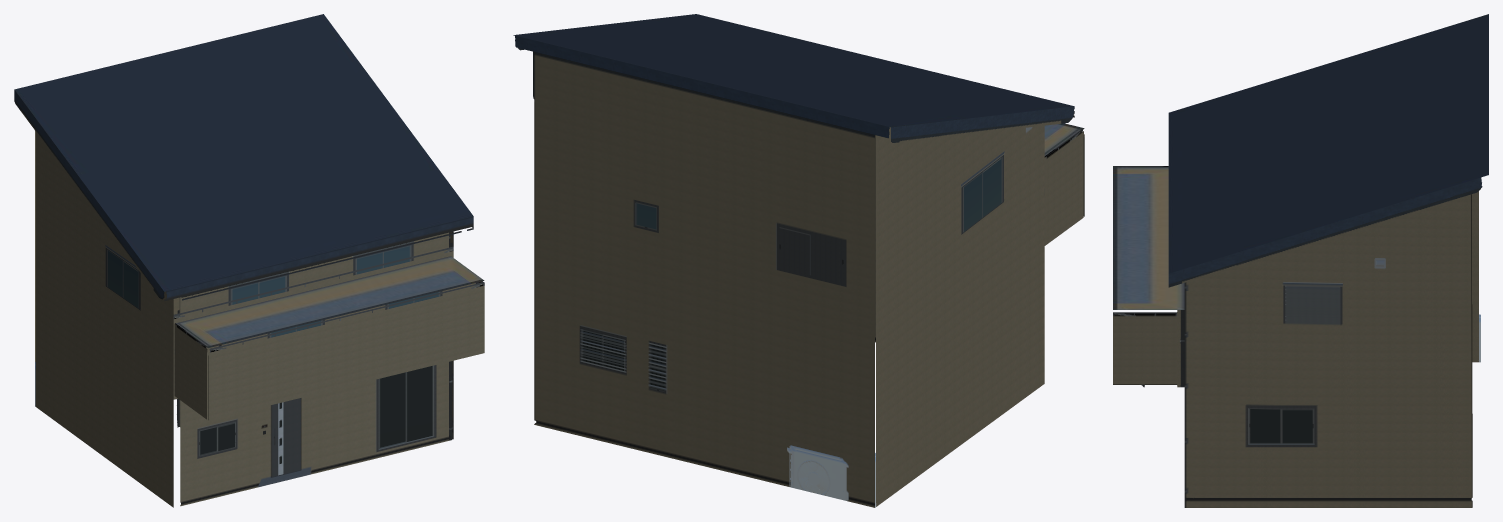
Rendered from house6_low.fbx.
3 views of the same model, side by side, from view 1: azimuth 30°, elevation 25°; view 2: azimuth 150°, elevation 25°; view 3: azimuth 270°, elevation 25° (orthographic). The views are drawn at different scales.
Visible parts, largest first — view 1: pCube83; view 2: pCube83; view 3: pCube83.
Part boxes in pixels (x1,y1,x2,y2): pCube83: (14,14,484,507); pCube83: (513,14,1084,507); pCube83: (1113,14,1488,507).
Size of the model in its own units: 10.6 by 10.42 by 10.46.
